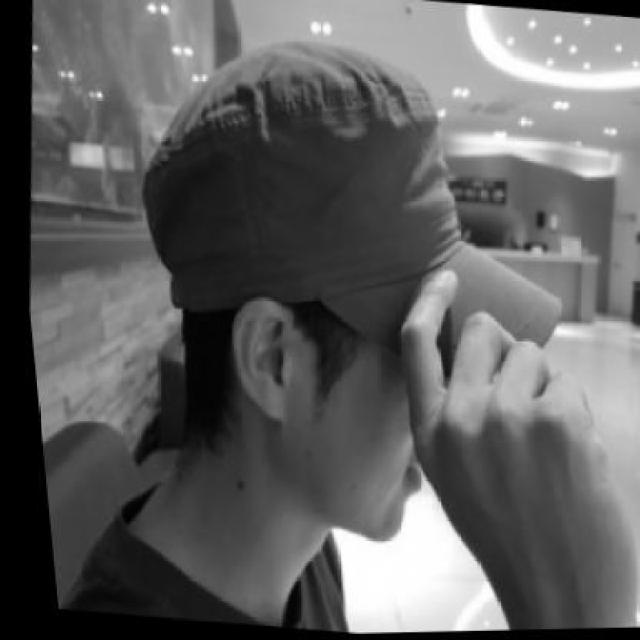hat: (105, 16, 589, 389)
